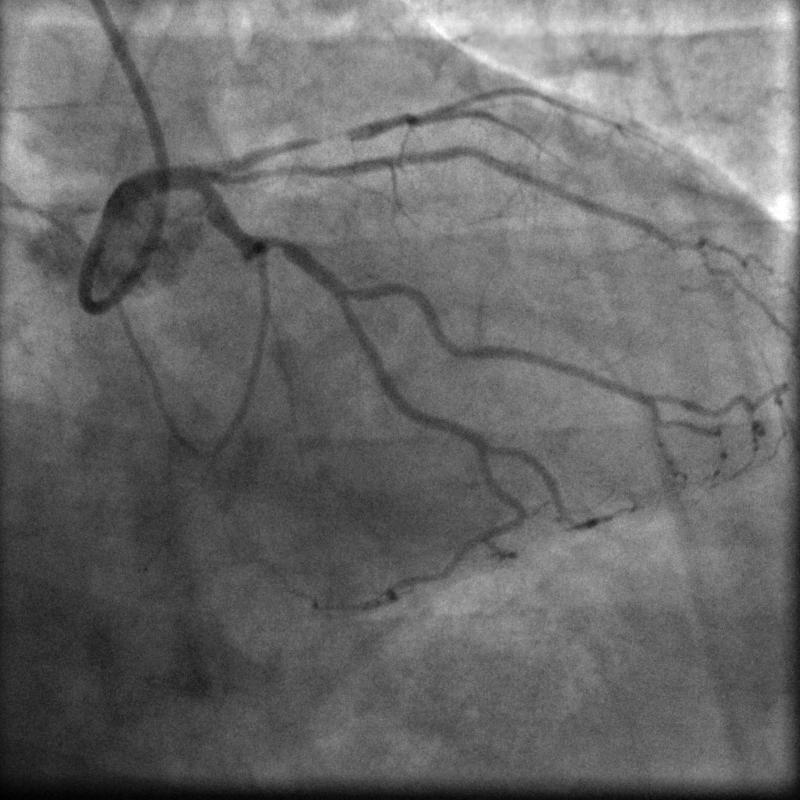Stenosis: (262, 234, 293, 255)
